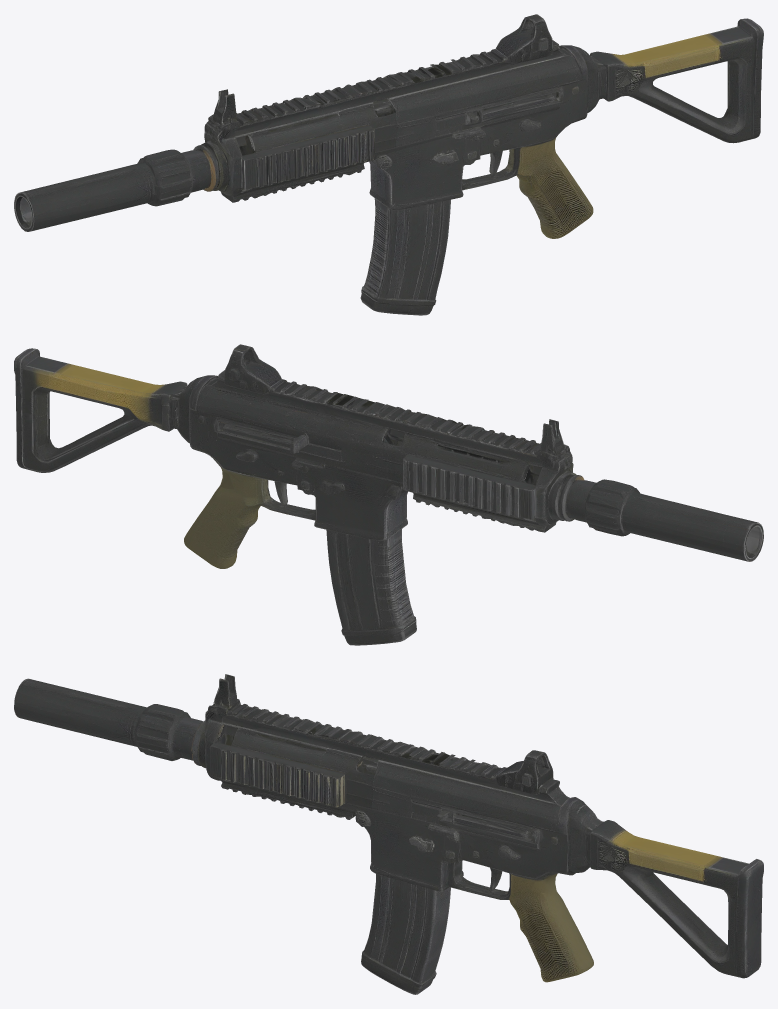
The model's file is mac10.glb.
The picture shows the model from 3 angles, top to bottom: view 1: azimuth 30°, elevation 25°; view 2: azimuth 150°, elevation 25°; view 3: azimuth 330°, elevation 25°; orthographic projection.
Bounding box in the file's own units: 1.9 × 0.6576 × 0.2047.
1 material, 1 textured.
